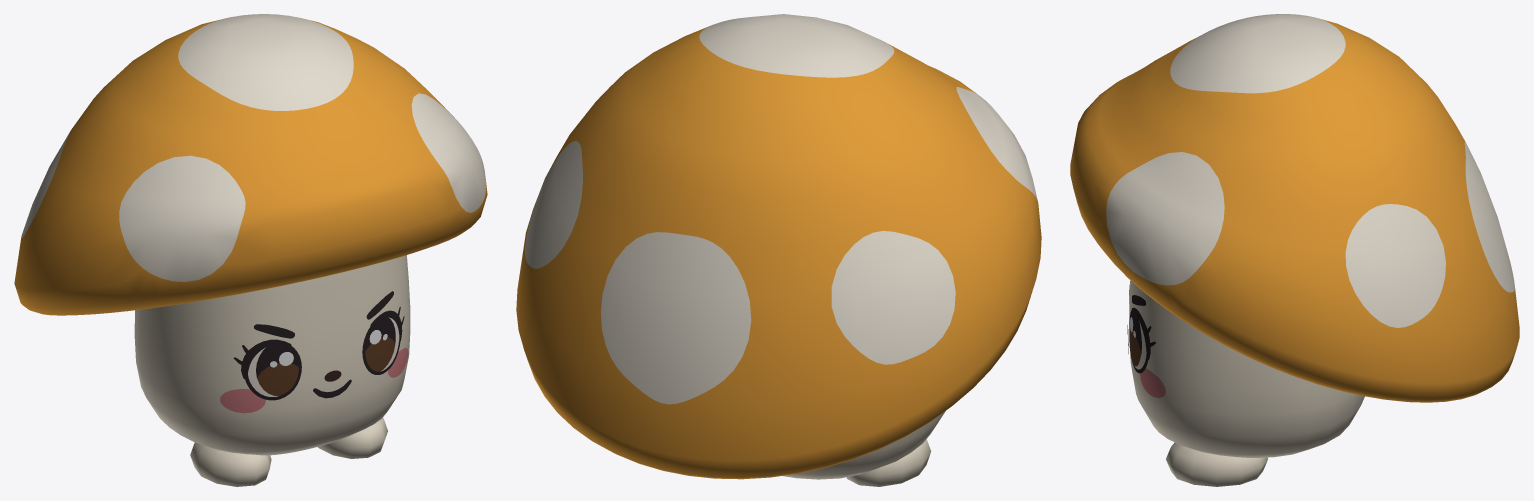
The model's file is kinoko_orange.glb.
The picture shows the model from 3 angles, left to right: view 1: azimuth 30°, elevation 25°; view 2: azimuth 150°, elevation 25°; view 3: azimuth 270°, elevation 25°; orthographic projection. The views are drawn at different scales.
Parts seen in each view (by area): view 1: body; view 2: body; view 3: body.
Part boxes in pixels (x1,y1,x2,y2): body: [14, 14, 487, 486]; body: [516, 14, 1041, 486]; body: [1070, 14, 1519, 486].
Size of the model in its own units: 0.8097 by 0.753 by 0.7369.
